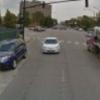cars: (42, 38, 60, 53)
